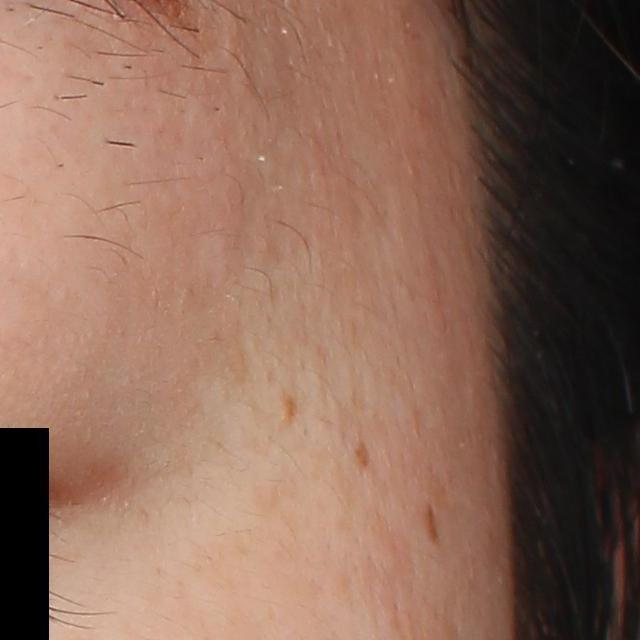nevus: (425, 496, 440, 547), (351, 436, 371, 470), (281, 396, 299, 429)
